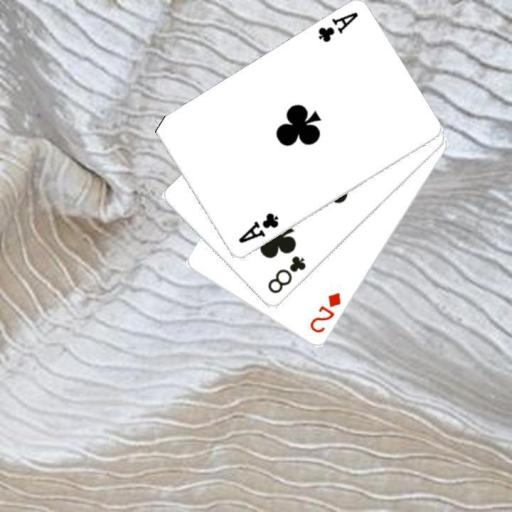2D: (306, 290, 343, 336)
8C: (264, 252, 308, 296)
AC: (314, 9, 360, 45), (235, 210, 280, 245)
